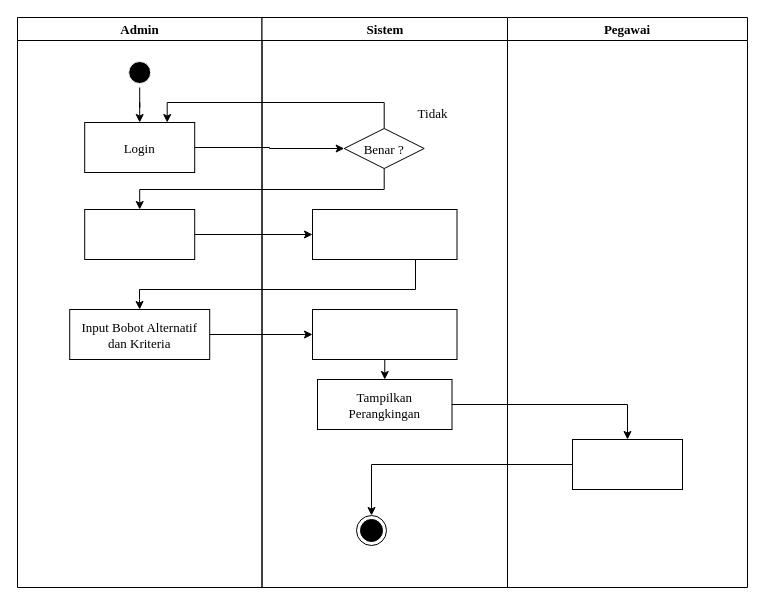
The diagram is 765 pixels wide and 605 high, and some of its shapes have lost their labels. Each missing label, with the centre of its shape:
Input Alternatif dan Kriteria: point 139,234
Lihat Rangking: point 627,464
Menampilkan Alternatif dan Kriteria: point 384,234
Menampilkan Bobot Alternatif dan Kriteria: point 384,334
